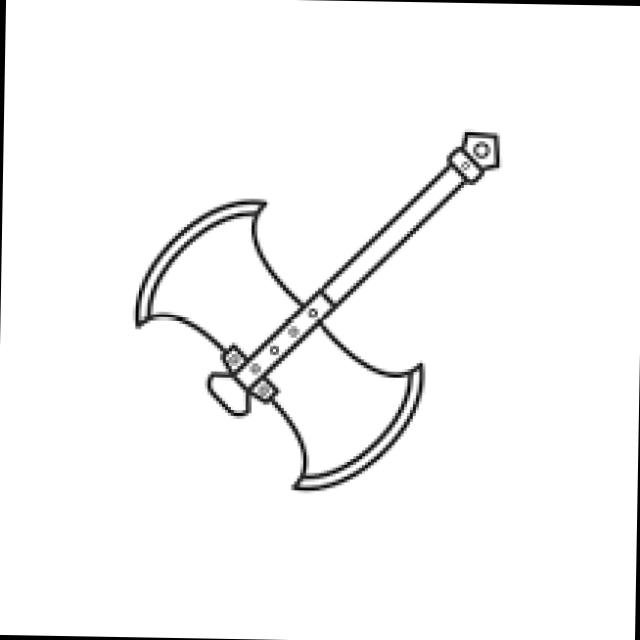Gun: (96, 102, 525, 500)
